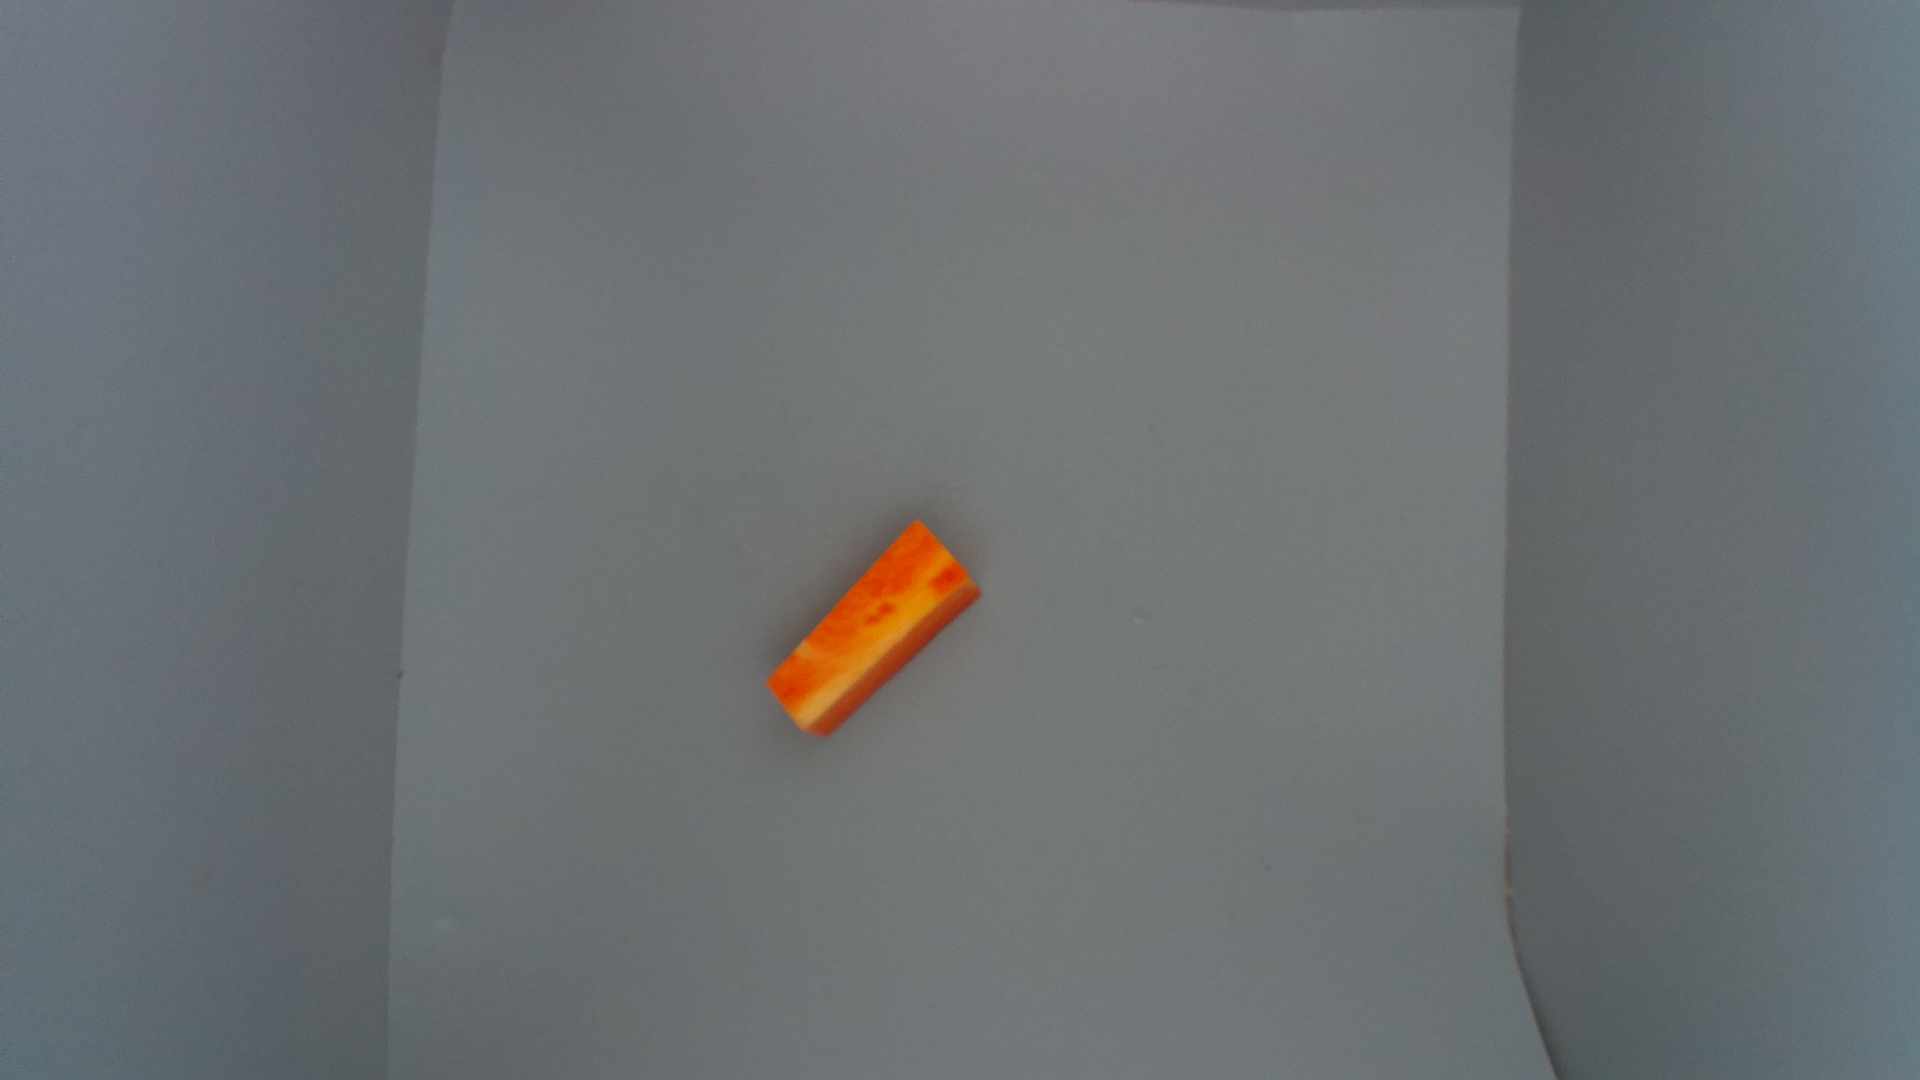carrot: (767, 520, 985, 742)
